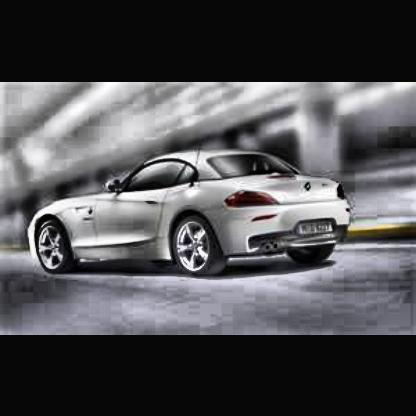BMW Z4 Convertible 2012: (24, 140, 358, 282)
